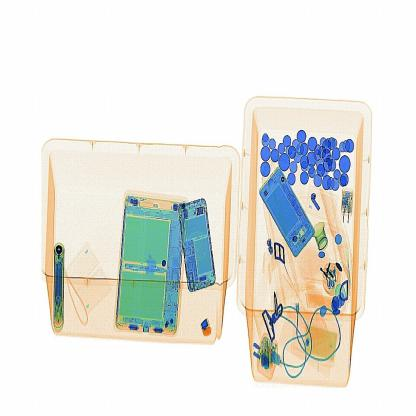wrench: (193, 309, 214, 342)
